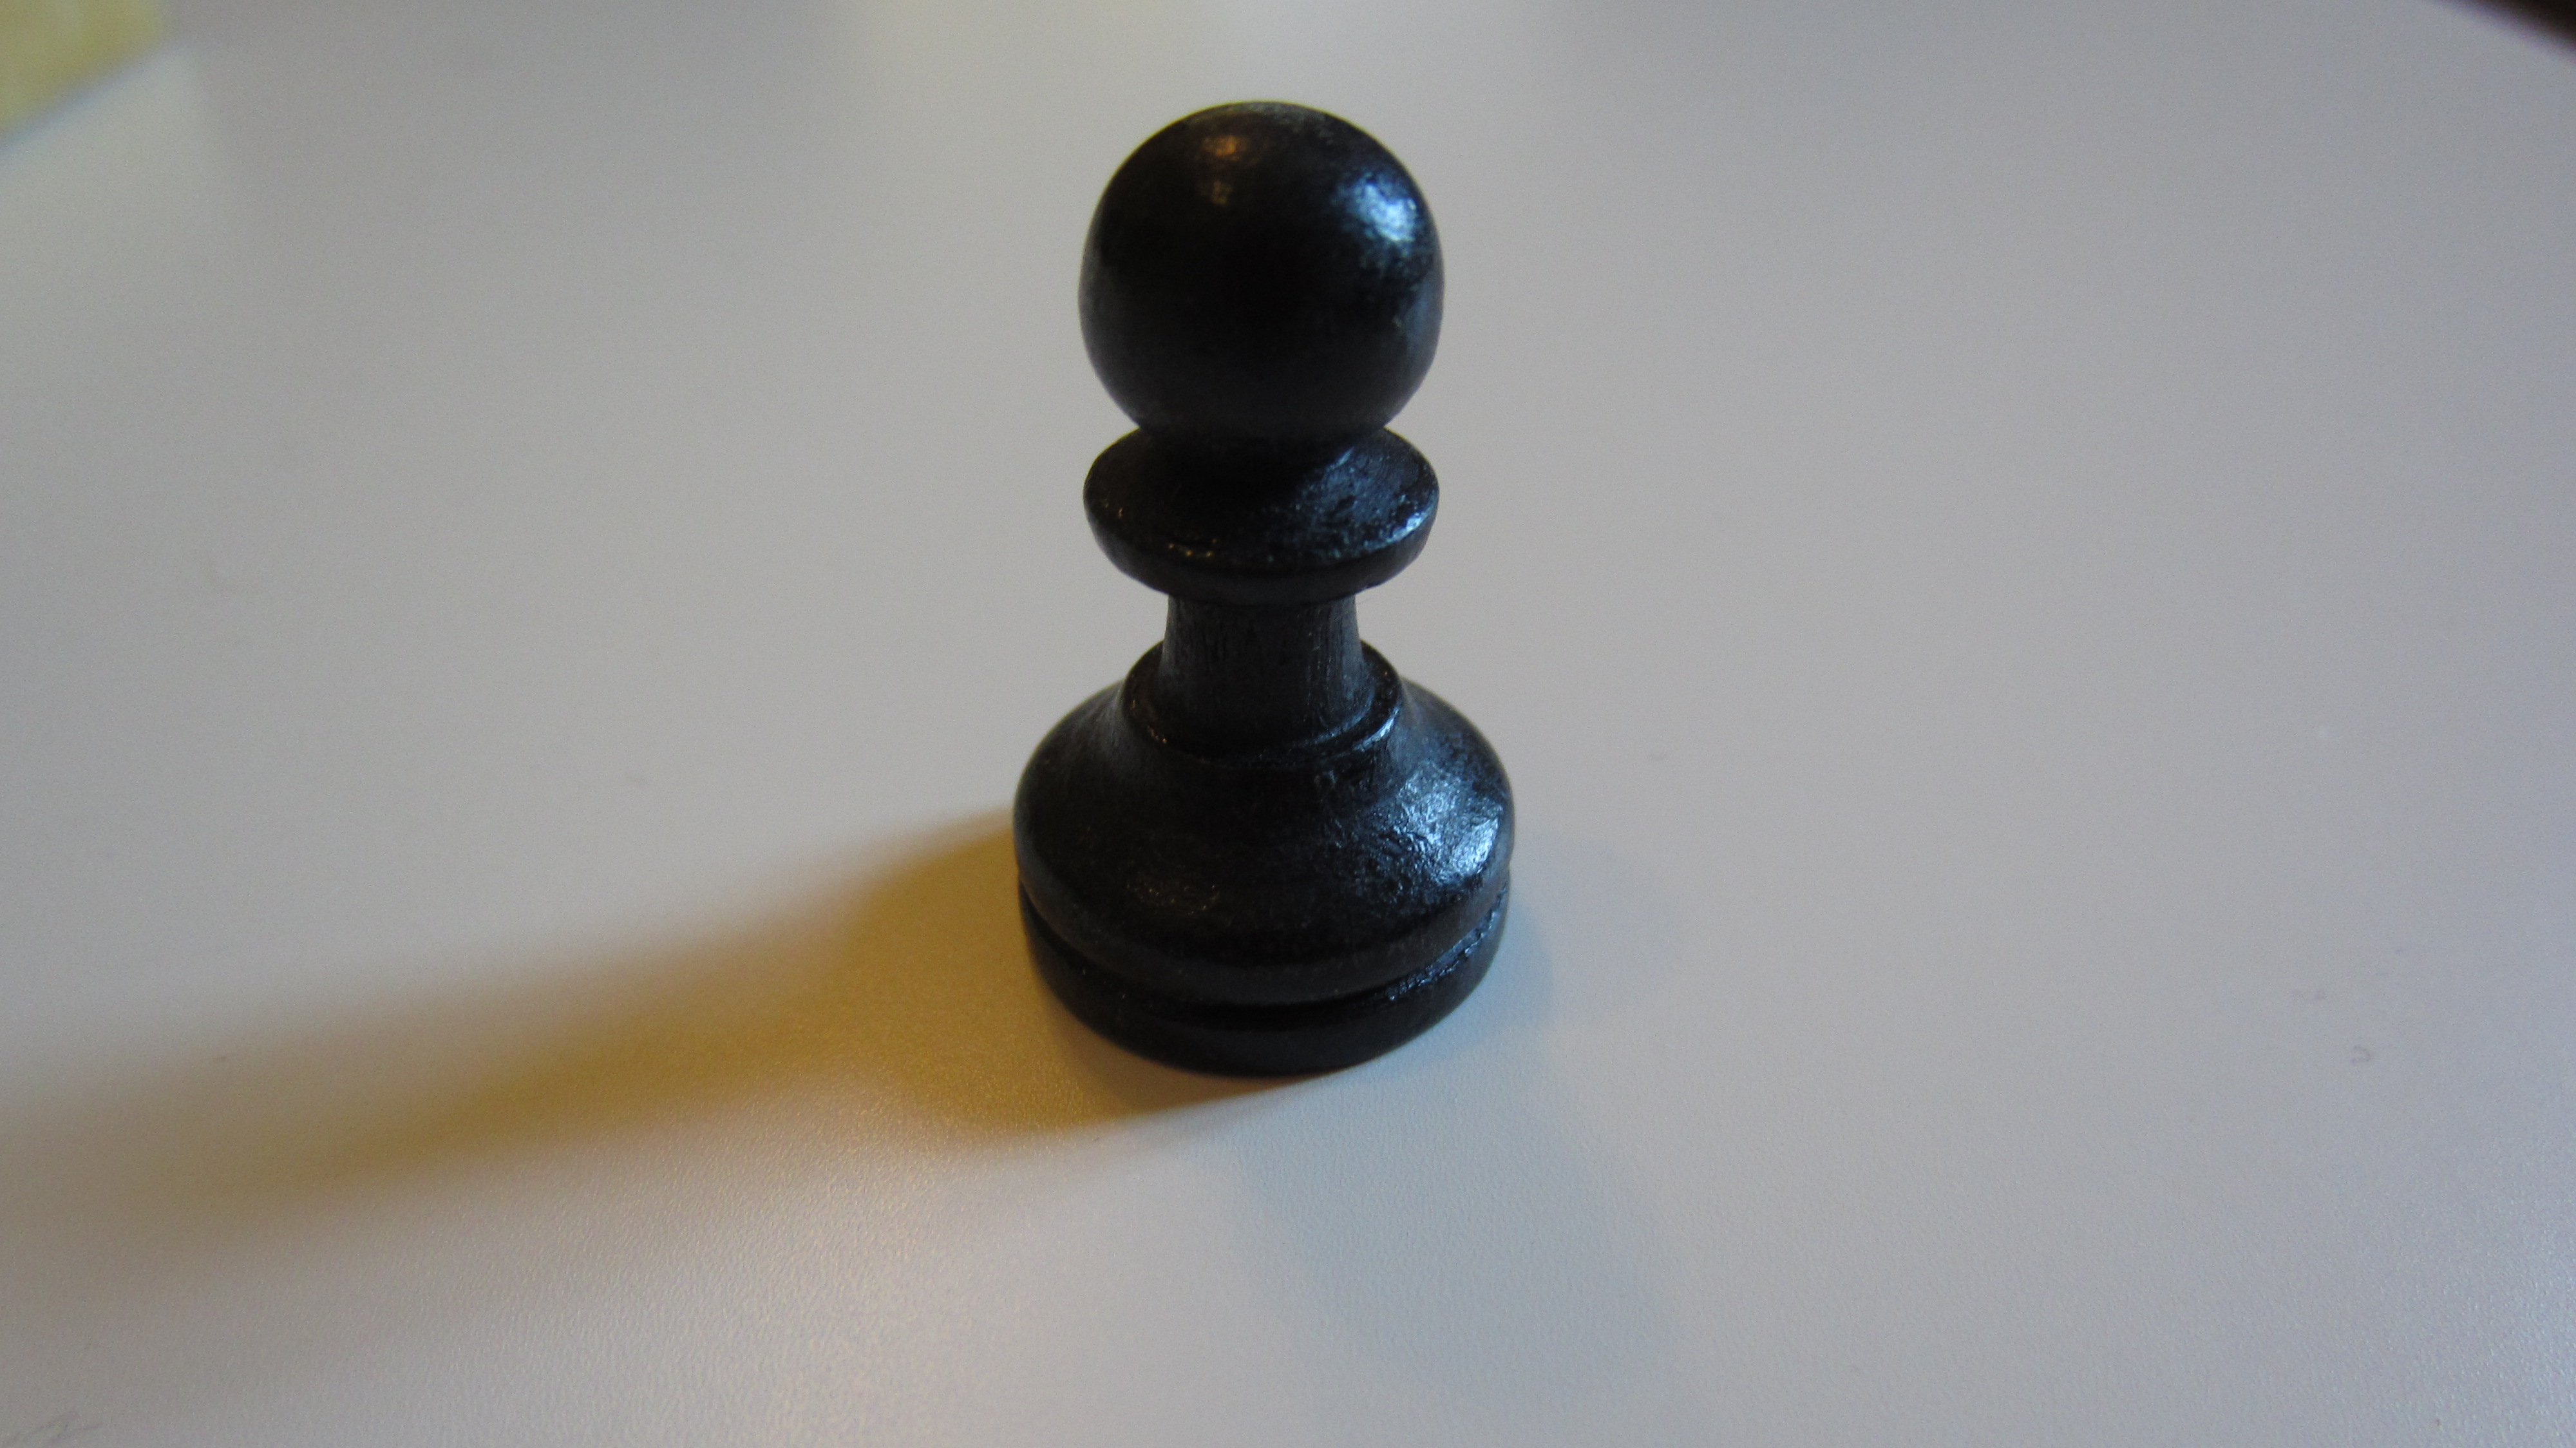black-pawn: (985, 97, 1527, 1087)
